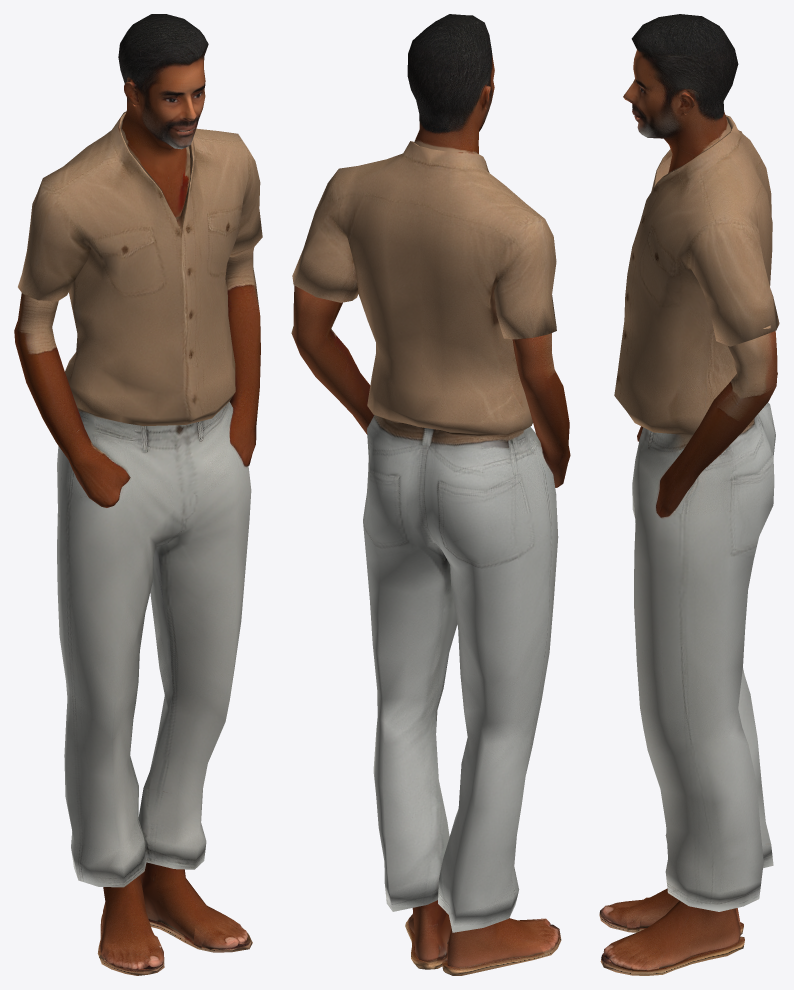
File: man.glb
3 renders of one model, left to right at view 1: azimuth 30°, elevation 25°; view 2: azimuth 150°, elevation 25°; view 3: azimuth 270°, elevation 25°, orthographic.
Bounding box in the file's own units: 0.4993 × 1.75 × 0.308.
Materials: 1 (1 with a texture image).
